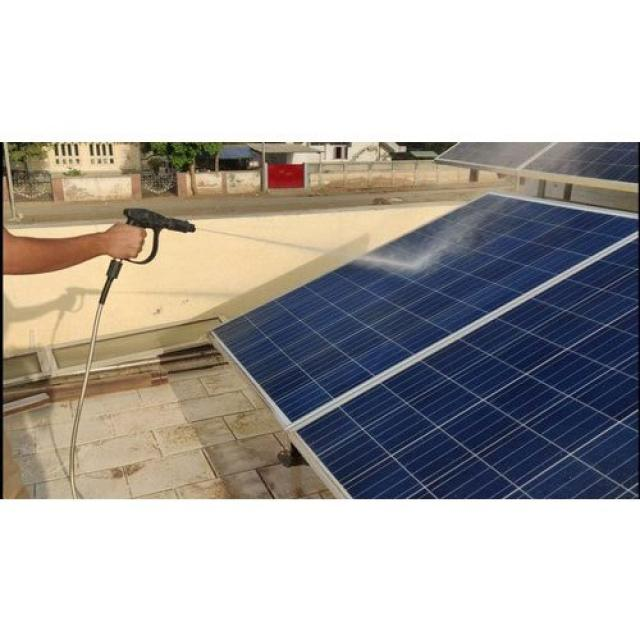clean-solar-panel: (215, 194, 639, 498)
